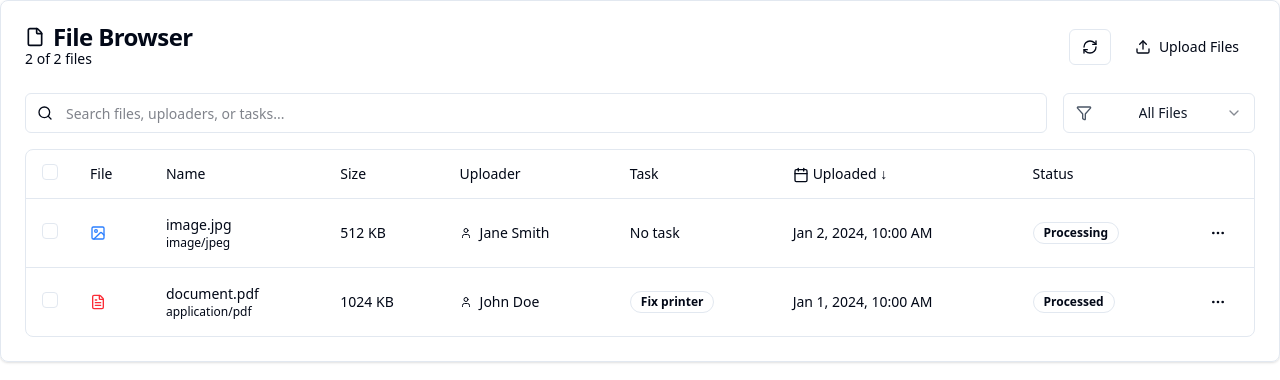
FileBrowser Component › should select all files
Expected: the text "document.pdf" is shown, [166,284,259,302]
# Click select all checkbox
Click the checkbox in the row of "Name": (50, 172) [42,164,58,180]
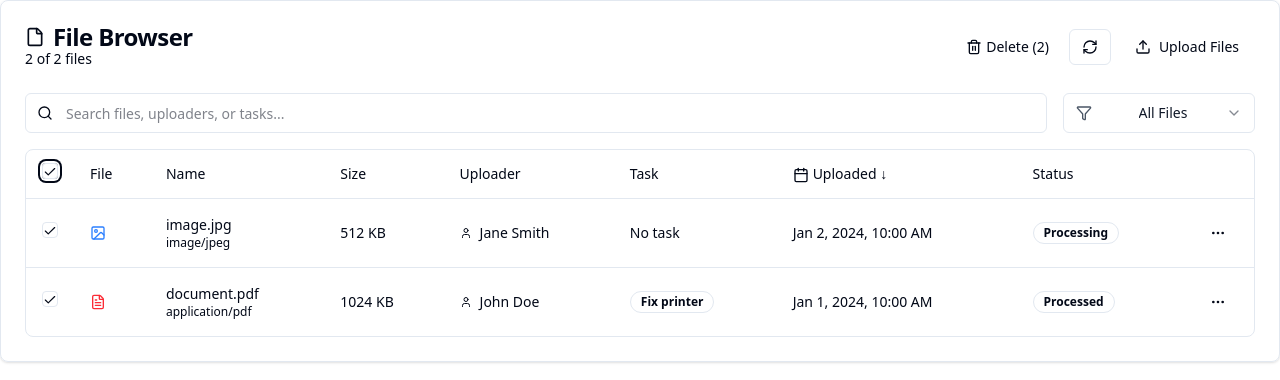
Expected: the button "Delete (2)" is shown, [954,29,1061,65]
